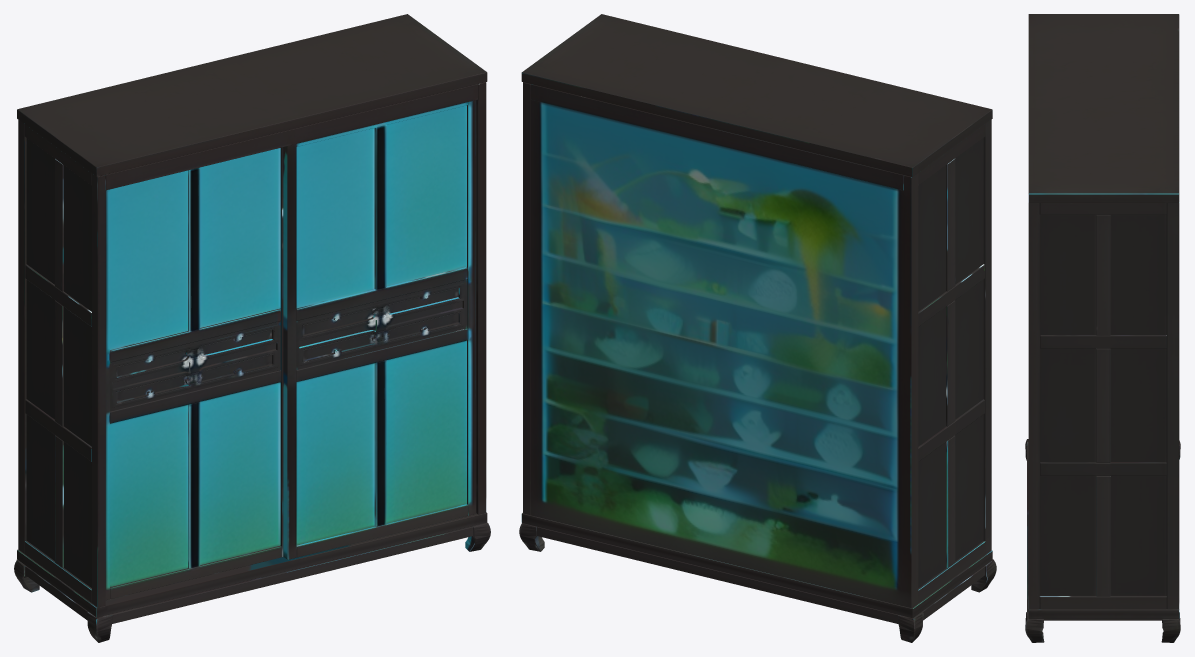
The model's file is edited_mesh.glb.
3 renders of one model, left to right at view 1: azimuth 30°, elevation 25°; view 2: azimuth 150°, elevation 25°; view 3: azimuth 270°, elevation 25°, orthographic. The views are drawn at different scales.
Parts seen in each view (by area): view 1: normalized_model.obj; view 2: normalized_model.obj; view 3: normalized_model.obj.
Part boxes in pixels (x1,y1,x2,y2): normalized_model.obj: (14,14,490,642); normalized_model.obj: (519,14,996,642); normalized_model.obj: (1025,14,1180,642).
Size of the model in its own units: 1.21 by 1.4 by 0.4358.
1 material, 1 textured.
